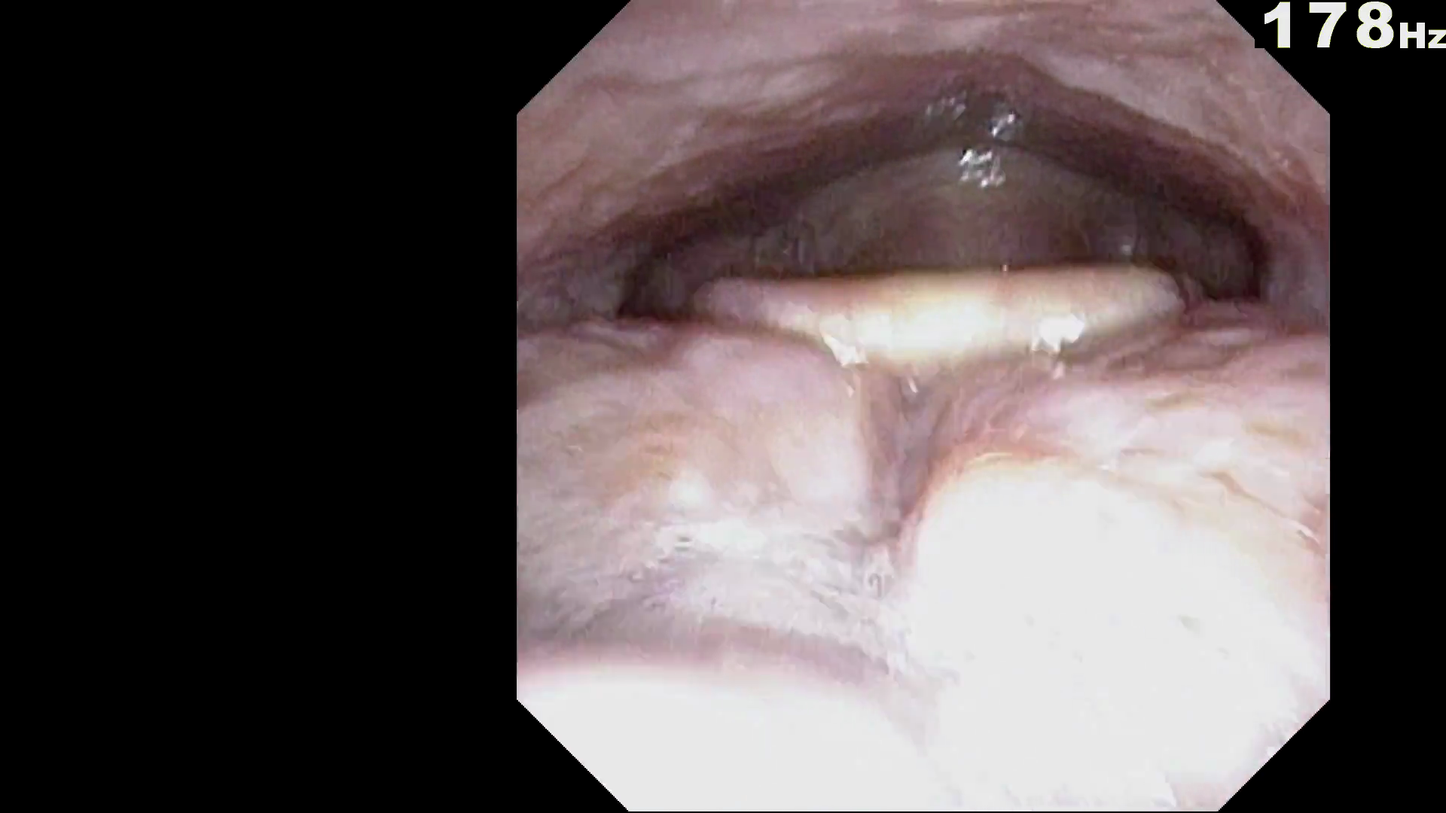epiglottis: (663, 243, 1209, 411)
